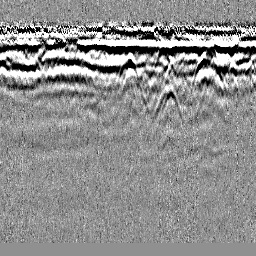cavity: (116, 52, 140, 85)
